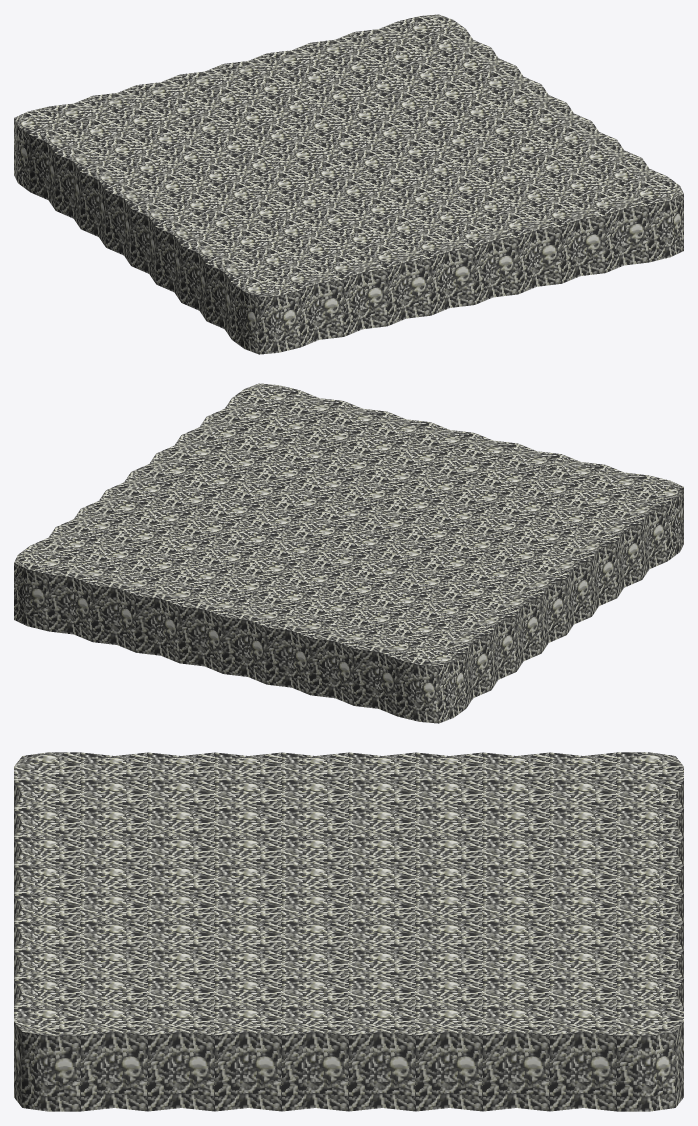
File: StageTrap.fbx
3 renders of one model, top to bottom at view 1: azimuth 30°, elevation 25°; view 2: azimuth 150°, elevation 25°; view 3: azimuth 270°, elevation 25°, orthographic. The views are drawn at different scales.
Visible parts, largest first — view 1: Terrain; view 2: Terrain; view 3: Terrain.
Part boxes in pixels (<box>): Terrain: <box>14,14,683,354</box>; Terrain: <box>14,383,683,723</box>; Terrain: <box>14,752,683,1111</box>.
Size of the model in its own units: 194 by 24.24 by 194.
1 material, 1 textured.
